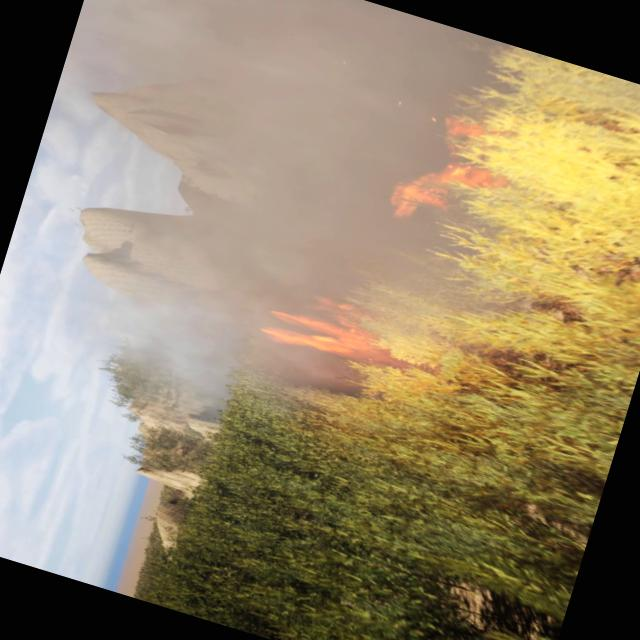fire: (376, 87, 518, 241), (254, 276, 399, 376)
smoke: (0, 0, 562, 488)
